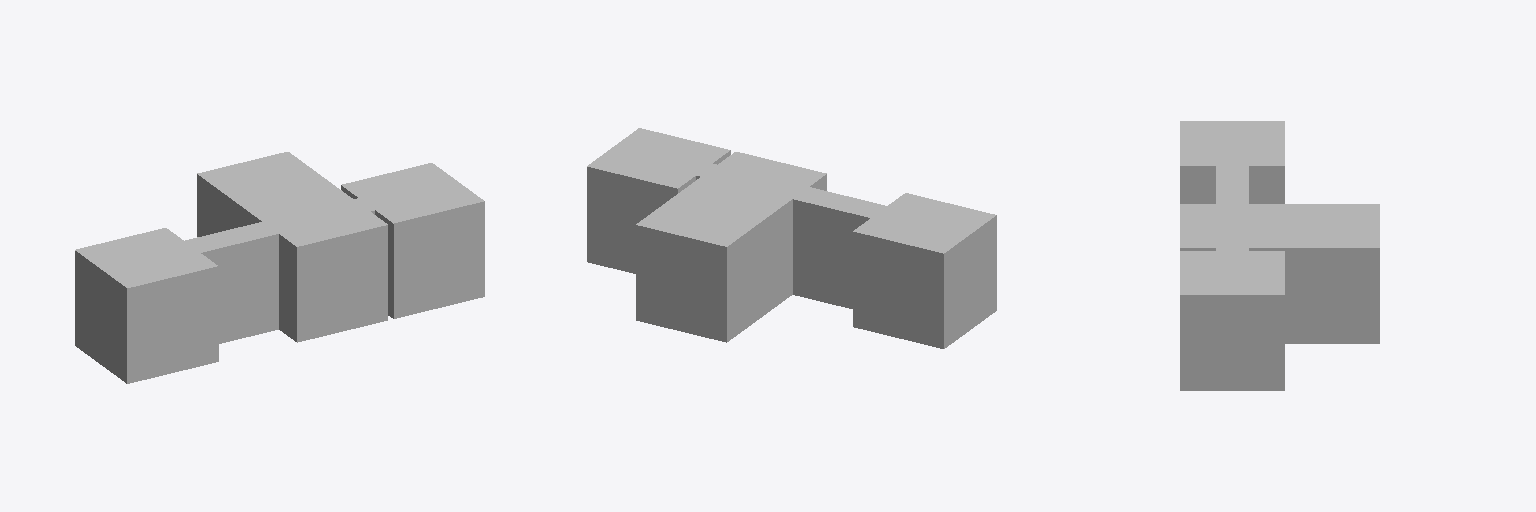
File: TestLevel2_VisualModel.obj
3 renders of one model, left to right at view 1: azimuth 30°, elevation 25°; view 2: azimuth 150°, elevation 25°; view 3: azimuth 270°, elevation 25°, orthographic.
Visible parts, largest first — view 1: BasicTestLevelOpenTop:pCube6; view 2: BasicTestLevelOpenTop:pCube6; view 3: BasicTestLevelOpenTop:pCube6.
Boxes of the visible parts, x1,y1,x2,y2 form: BasicTestLevelOpenTop:pCube6: [75, 152, 484, 383]; BasicTestLevelOpenTop:pCube6: [587, 128, 996, 348]; BasicTestLevelOpenTop:pCube6: [1180, 121, 1379, 390].
Bounding box in the file's own units: 57.72 × 14.76 × 28.04.